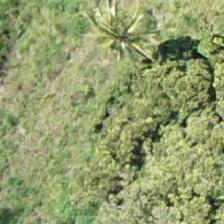coconut_tree: (79, 0, 169, 81)
